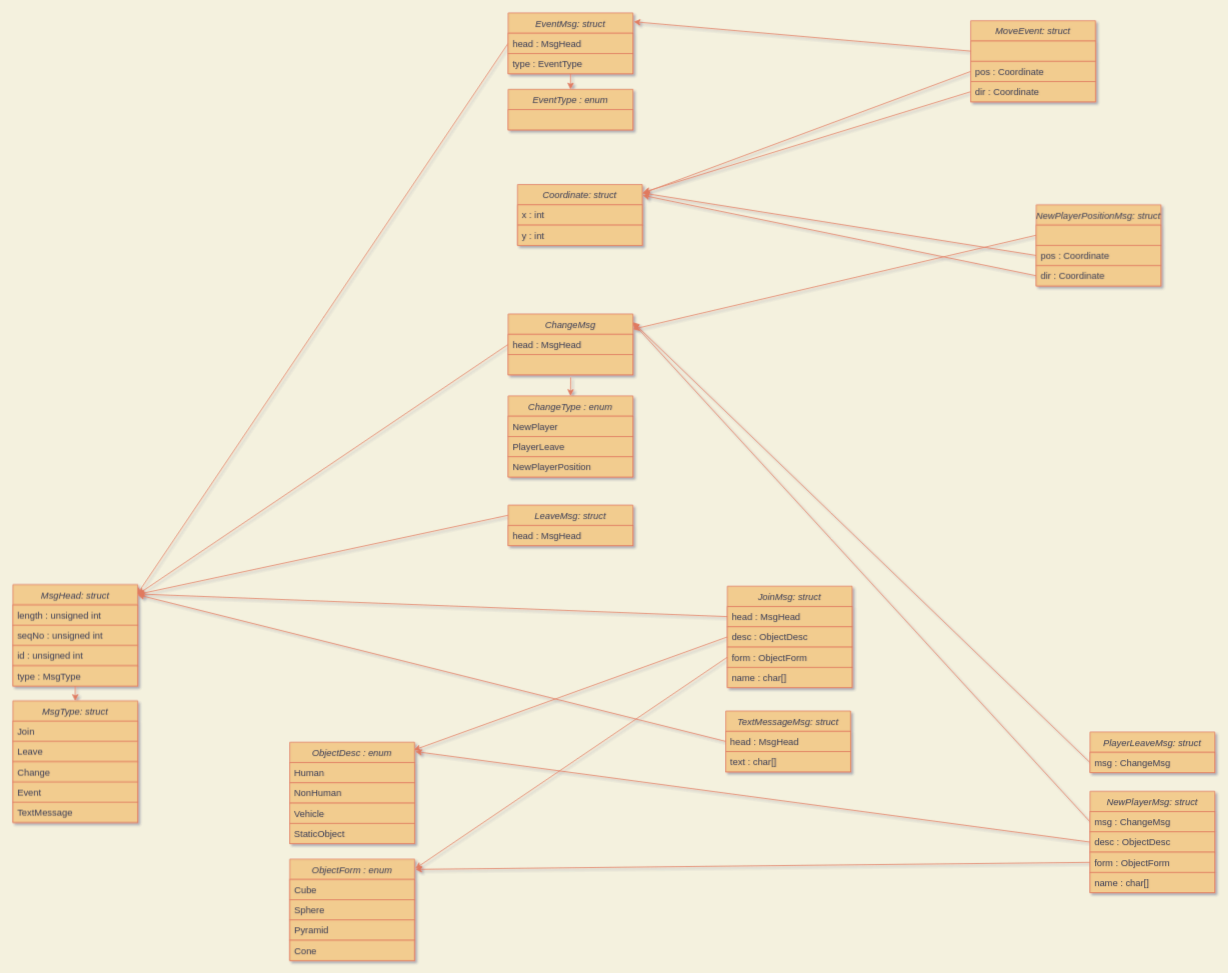
Image size: 1228x973. Some labels were removed from this diagram. Here are the shapes that lost their labels. From the top down, the centre of each, then its label:
At (1033,50): "event : EventMsg".
At (570,119): "move".
At (1098,234): "ChangeMsg msg".
At (570,364): "type : ChangeType".
